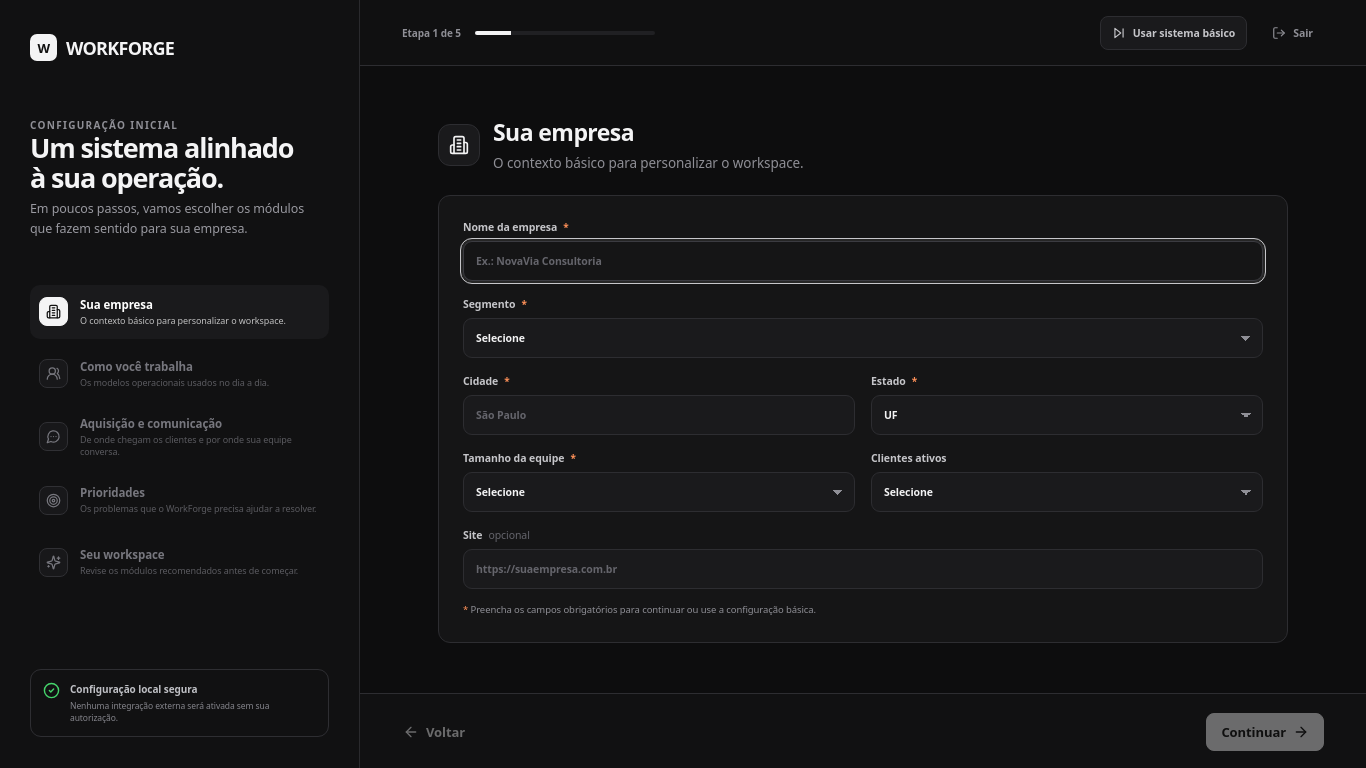
Test: onboarding and workspace configuration › exits onboarding and returns to login
Click the button "Sair": (1293, 32) [1261,16,1324,50]
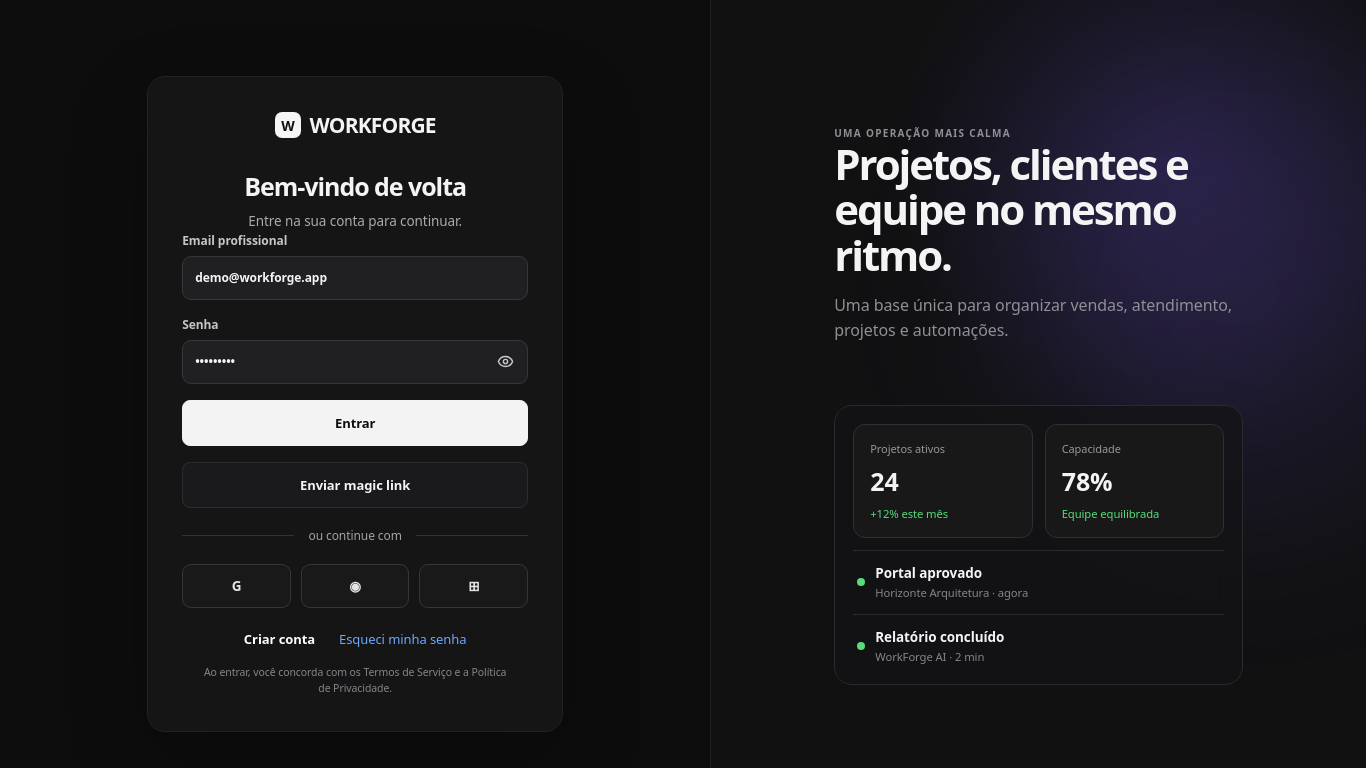
Now the heading "Bem-vindo de volta" is shown, box [244,169,466,203]
